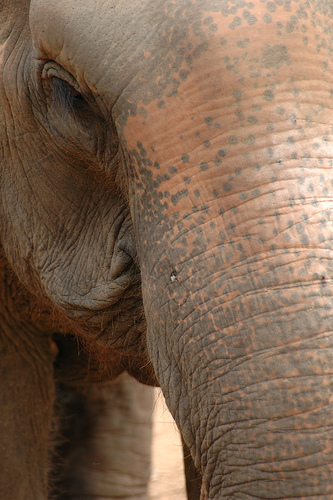elephant: (2, 2, 333, 495)
